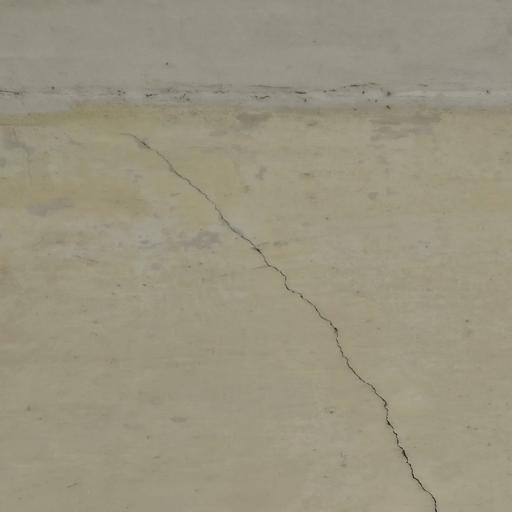minor_crack: (113, 118, 465, 512)
